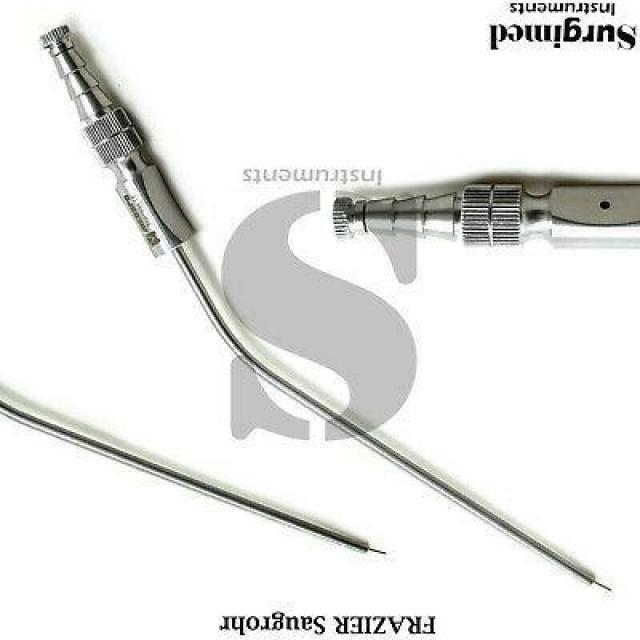Frazier: (36, 22, 598, 586), (3, 394, 371, 554), (329, 172, 636, 255), (621, 258, 624, 262)
